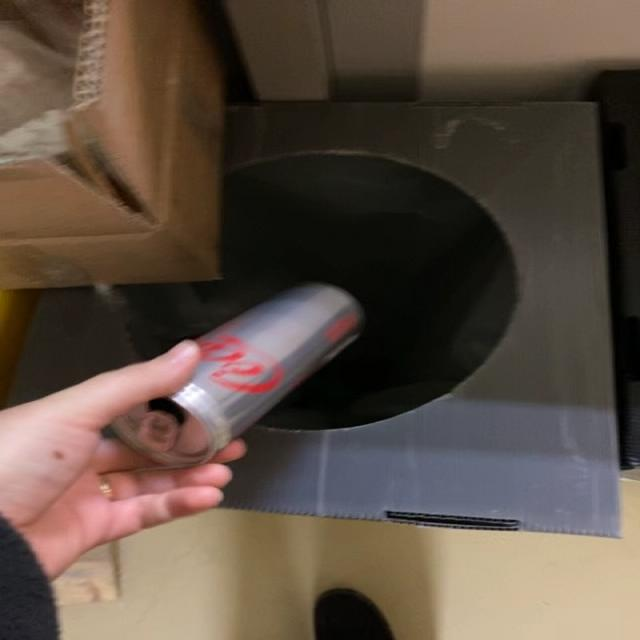bin: (11, 102, 613, 430)
metal: (113, 283, 364, 468)
